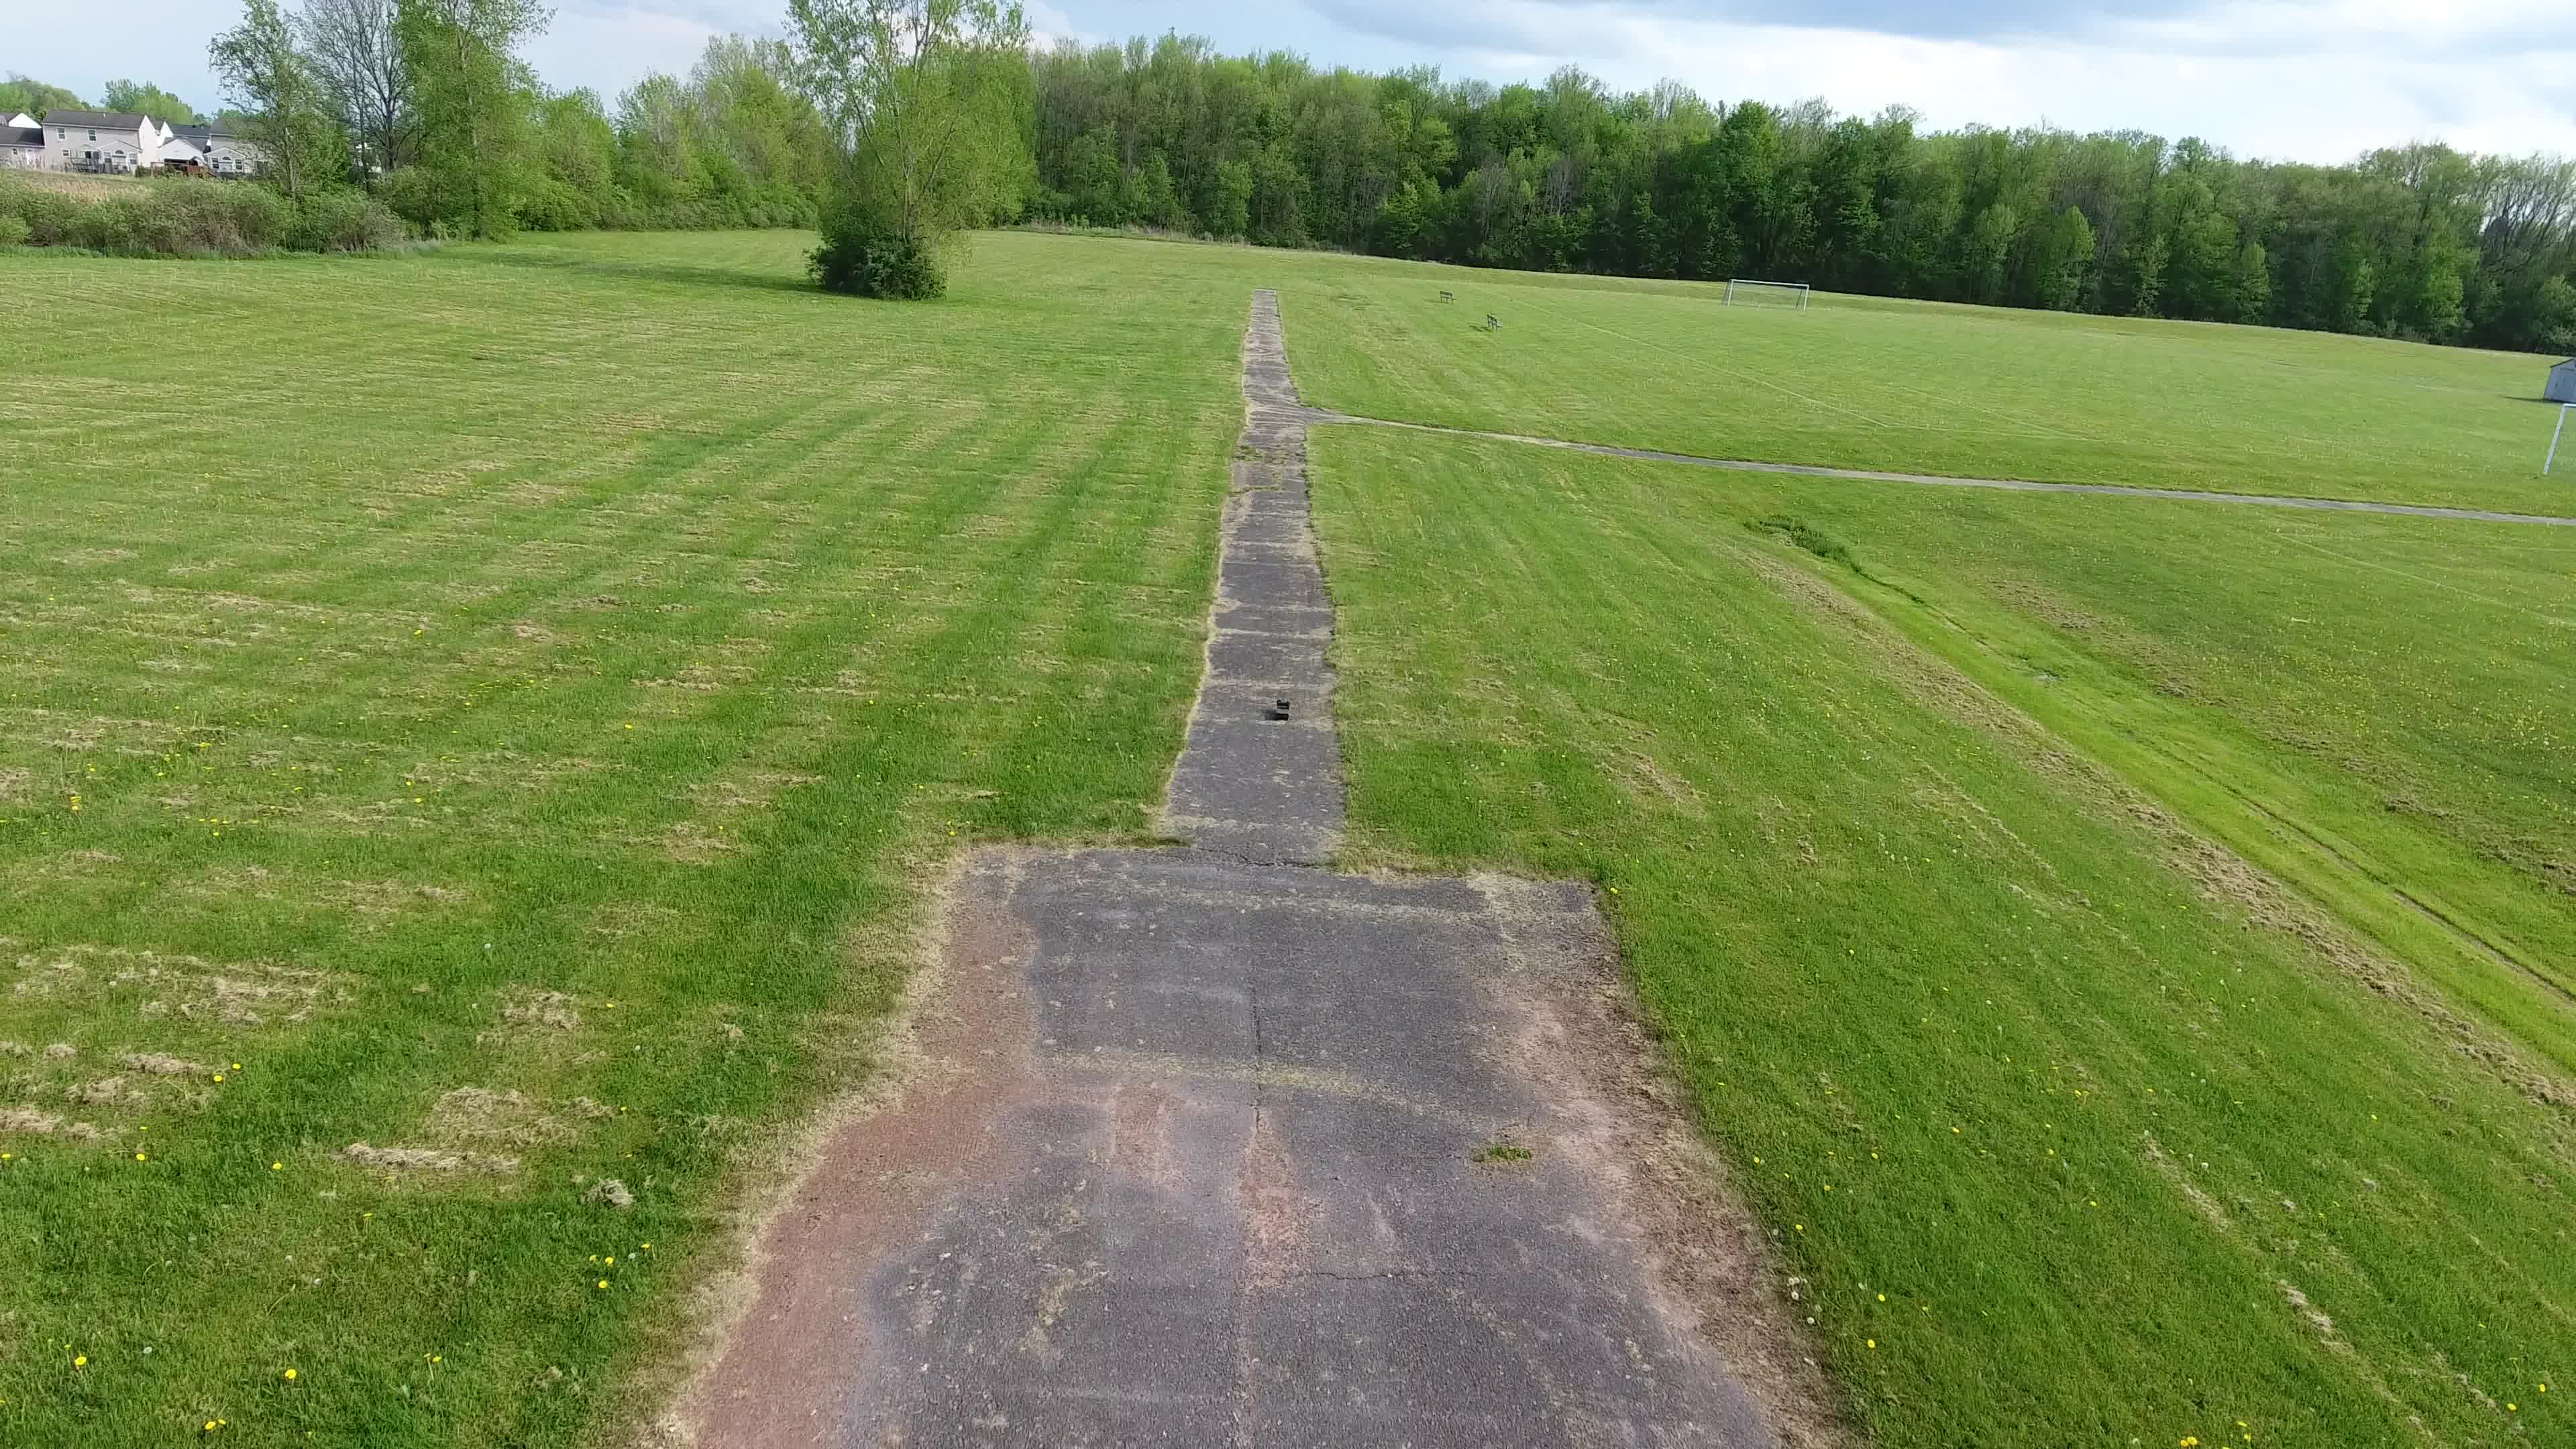transporter9_camo: (1274, 695, 1293, 722)
